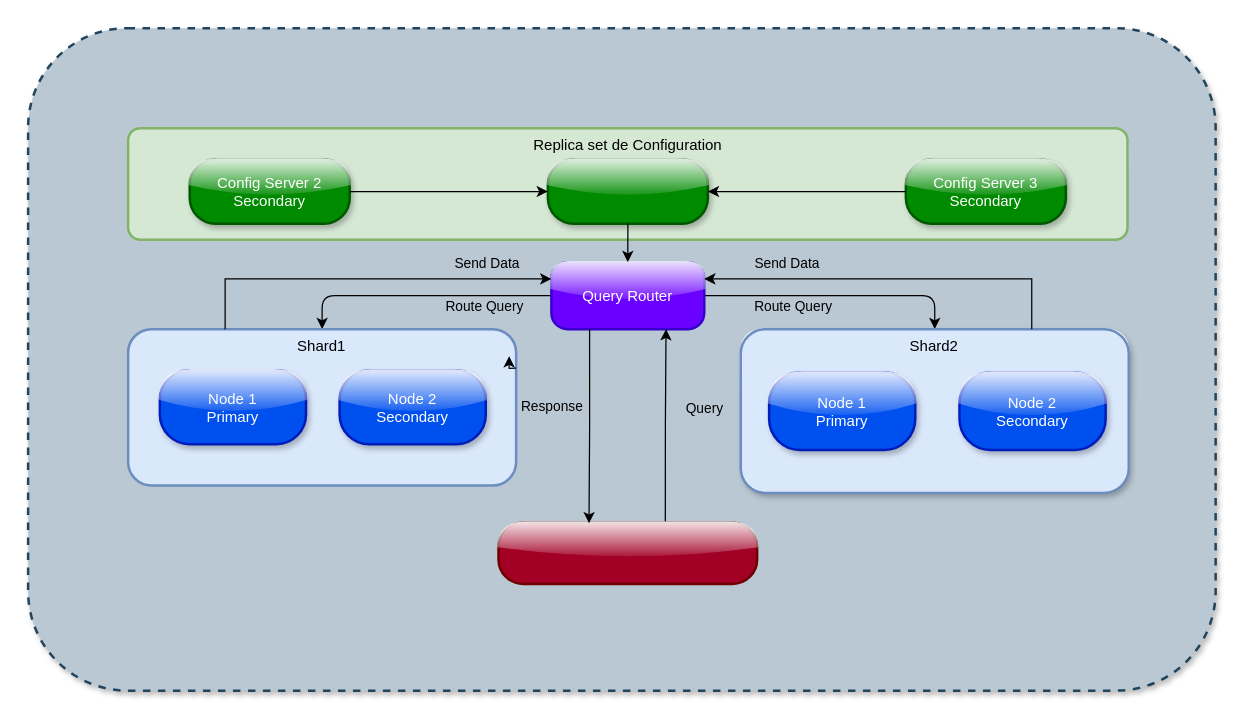
The diagram is 1245 pixels wide and 721 high, and some of its shapes have lost their labels. The centre of each missing label's shape, as x and y in pixels:
Client: [627,552]
Config Server 1 Primary: [628,192]
